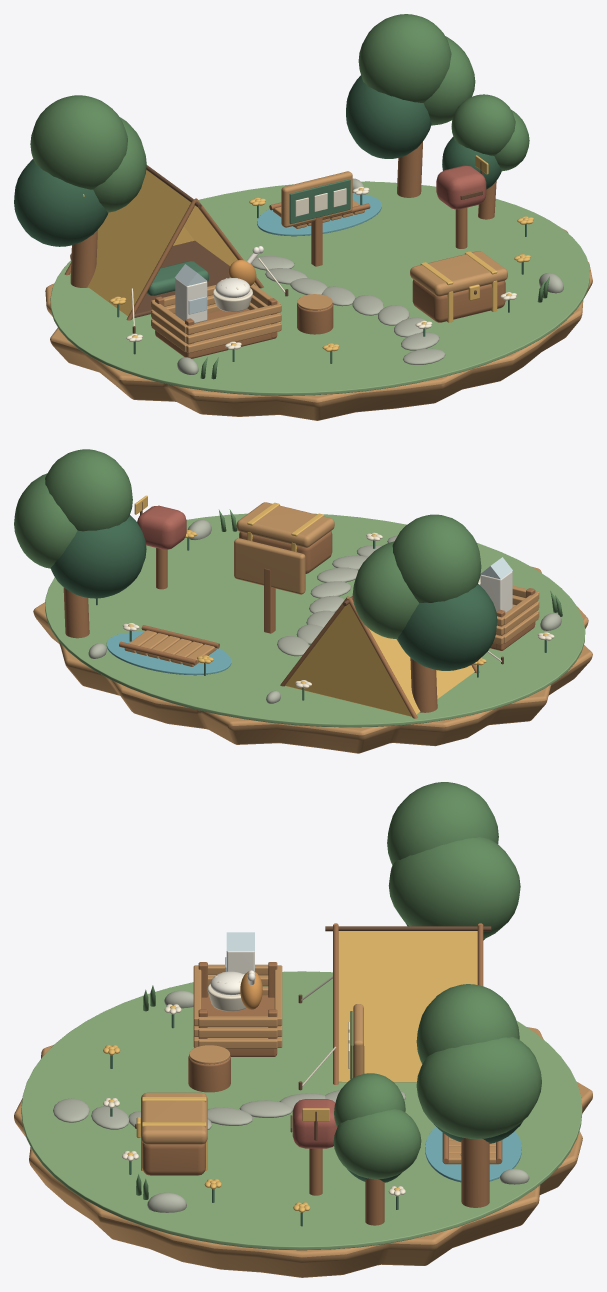
The model's file is camp.glb.
3 views of the same model, one above another, from view 1: azimuth 30°, elevation 25°; view 2: azimuth 150°, elevation 25°; view 3: azimuth 270°, elevation 25° (orthographic). The views are drawn at different scales.
Visible parts, largest first — view 1: island meadow, Camp_WI_leaf, Camp_WI_woodLight, Camp_WI_leafDark, Camp_WI_gold, Camp_WI_wood, Camp_WI_stone, FoodCrate_WI_woodLight, chest lid, Camp_WI_woodDark, chest base, mailbox body (+12 smaller); view 2: island meadow, Camp_WI_leaf, Camp_WI_woodLight, Camp_WI_leafDark, Camp_WI_gold, Camp_WI_wood, Camp_WI_stone, sign board, chest lid, pond water, mailbox body, FoodCrate_WI_woodLight (+6 smaller); view 3: island meadow, Camp_WI_leaf, Camp_WI_gold, Camp_WI_woodLight, Camp_WI_wood, Camp_WI_stone, FoodCrate_WI_woodLight, chest lid, chest base, FoodCrate_WI_wood, pond water, mailbox body (+6 smaller).
Part boxes in pixels (bbox=[...]): island meadow: bbox=[50, 181, 589, 395]; Camp_WI_leaf: bbox=[30, 14, 549, 379]; Camp_WI_woodLight: bbox=[45, 181, 592, 420]; Camp_WI_leafDark: bbox=[14, 75, 501, 246]; Camp_WI_gold: bbox=[70, 170, 533, 351]; Camp_WI_wood: bbox=[64, 142, 496, 334]; Camp_WI_stone: bbox=[177, 178, 563, 374]; FoodCrate_WI_woodLight: bbox=[151, 284, 281, 353]; chest lid: bbox=[410, 251, 507, 296]; Camp_WI_woodDark: bbox=[132, 165, 288, 333]; chest base: bbox=[412, 279, 505, 322]; mailbox body: bbox=[436, 165, 486, 209]; island meadow: bbox=[45, 513, 585, 727]; Camp_WI_leaf: bbox=[14, 449, 562, 639]; Camp_WI_woodLight: bbox=[33, 566, 592, 753]; Camp_WI_leafDark: bbox=[51, 515, 497, 670]; Camp_WI_gold: bbox=[128, 530, 548, 716]; Camp_WI_wood: bbox=[63, 587, 479, 718]; Camp_WI_stone: bbox=[88, 519, 561, 703]; sign board: bbox=[234, 538, 305, 594]; chest lid: bbox=[236, 502, 334, 547]; pond water: bbox=[106, 631, 231, 675]; mailbox body: bbox=[137, 505, 186, 549]; FoodCrate_WI_woodLight: bbox=[493, 585, 539, 644]; island meadow: bbox=[21, 971, 582, 1250]; Camp_WI_leaf: bbox=[136, 782, 541, 1199]; Camp_WI_gold: bbox=[103, 931, 477, 1212]; Camp_WI_woodLight: bbox=[14, 1027, 592, 1277]; Camp_WI_wood: bbox=[188, 923, 502, 1225]; Camp_WI_stone: bbox=[53, 990, 529, 1212]; FoodCrate_WI_woodLight: bbox=[193, 964, 282, 1048]; chest lid: bbox=[141, 1092, 207, 1144]; chest base: bbox=[142, 1142, 205, 1175]; FoodCrate_WI_wood: bbox=[198, 962, 277, 1056]; pond water: bbox=[425, 1127, 521, 1182]; mailbox body: bbox=[292, 1099, 337, 1148].
Bounding box in the file's own units: 9.48 × 4.02 × 8.16.
